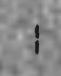one: (19, 20, 40, 55)
